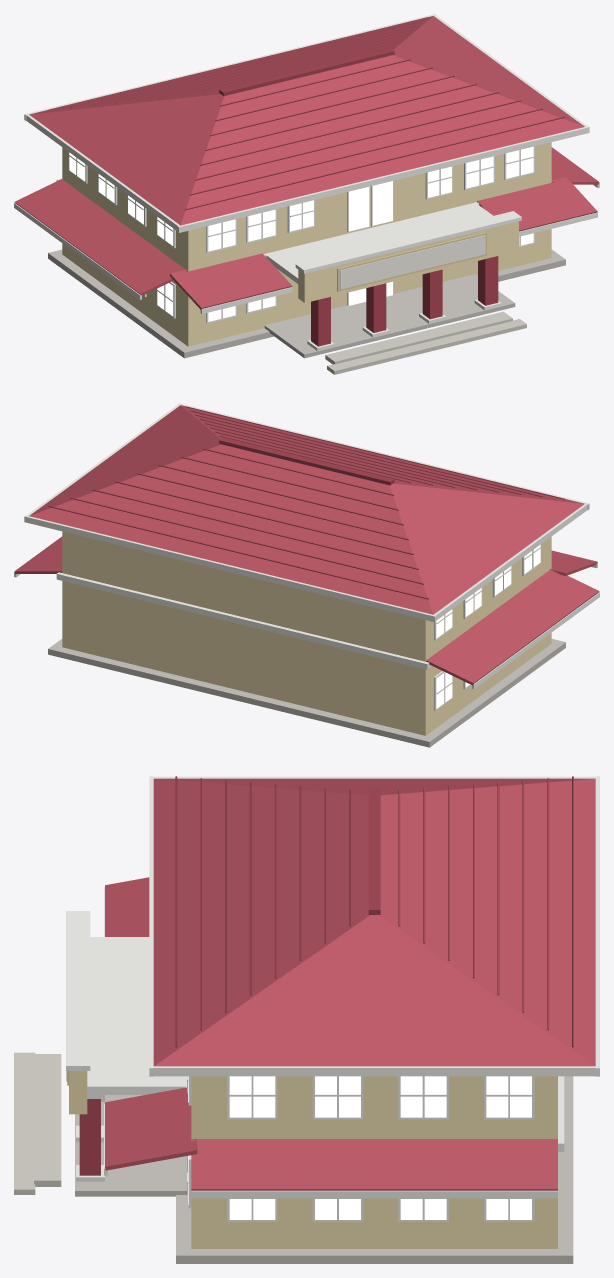
Rendered from BarangayHall.fbx.
3 renders of one model, top to bottom at view 1: azimuth 30°, elevation 25°; view 2: azimuth 150°, elevation 25°; view 3: azimuth 270°, elevation 25°, orthographic. The views are drawn at different scales.
Parts seen in each view (by area): view 1: Roof, WallUpper, WallGround, AwningSide, PorticoFloor, AwningFront, BaseSlab, PorticoSlab, AwningFront.001, Fascia, EaveTrimF, SignBoard (+34 smaller); view 2: Roof, WallGround, WallUpper, AwningSide, BaseSlab, EaveTrimB, Slab2Band, RidgeCap, EaveTrimL, AwningSide.001, EaveTrimF, AwningTrimS (+14 smaller); view 3: Roof, AwningSide.001, WallUpper, WallGround, PorticoSlab, BaseSlab, AwningFront.001, EaveTrimR, FasciaCap, PorticoFloor, Step1, AwningTrimS.001 (+21 smaller).
Part boxes in pixels (box(x1,y1,x2,y2)): Roof: box(29, 16, 584, 225); WallUpper: box(62, 142, 551, 271); WallGround: box(62, 229, 551, 346); AwningSide: box(14, 179, 187, 295); PorticoFloor: box(264, 274, 515, 358); AwningFront: box(170, 253, 292, 309); BaseSlab: box(48, 249, 565, 358); PorticoSlab: box(266, 204, 493, 283); AwningFront.001: box(477, 177, 597, 231); Fascia: box(298, 221, 518, 302); EaveTrimF: box(177, 126, 589, 232); SignBoard: box(340, 235, 485, 289); Roof: box(29, 405, 584, 614); WallGround: box(62, 581, 551, 735); WallUpper: box(62, 531, 551, 661); AwningSide: box(426, 568, 599, 685); BaseSlab: box(48, 639, 565, 747); EaveTrimB: box(24, 515, 436, 622); Slab2Band: box(56, 572, 431, 669); RidgeCap: box(219, 437, 394, 485); EaveTrimL: box(433, 503, 587, 620); AwningSide.001: box(14, 536, 62, 573); EaveTrimF: box(177, 403, 589, 509); AwningTrimS: box(472, 592, 599, 688); Roof: box(153, 778, 595, 1066); AwningSide.001: box(191, 1139, 557, 1190); WallUpper: box(191, 1076, 557, 1138); WallGround: box(191, 1198, 557, 1248); PorticoSlab: box(87, 937, 185, 1094); BaseSlab: box(176, 1076, 573, 1263); AwningFront.001: box(105, 1087, 197, 1170); EaveTrimR: box(151, 1066, 595, 1076); FasciaCap: box(66, 911, 90, 1070); PorticoFloor: box(75, 1095, 186, 1196); Step1: box(34, 1054, 61, 1186); AwningTrimS.001: box(191, 1190, 557, 1198).
Bounding box in the file's own units: 25.32 × 10.07 × 19.17.
